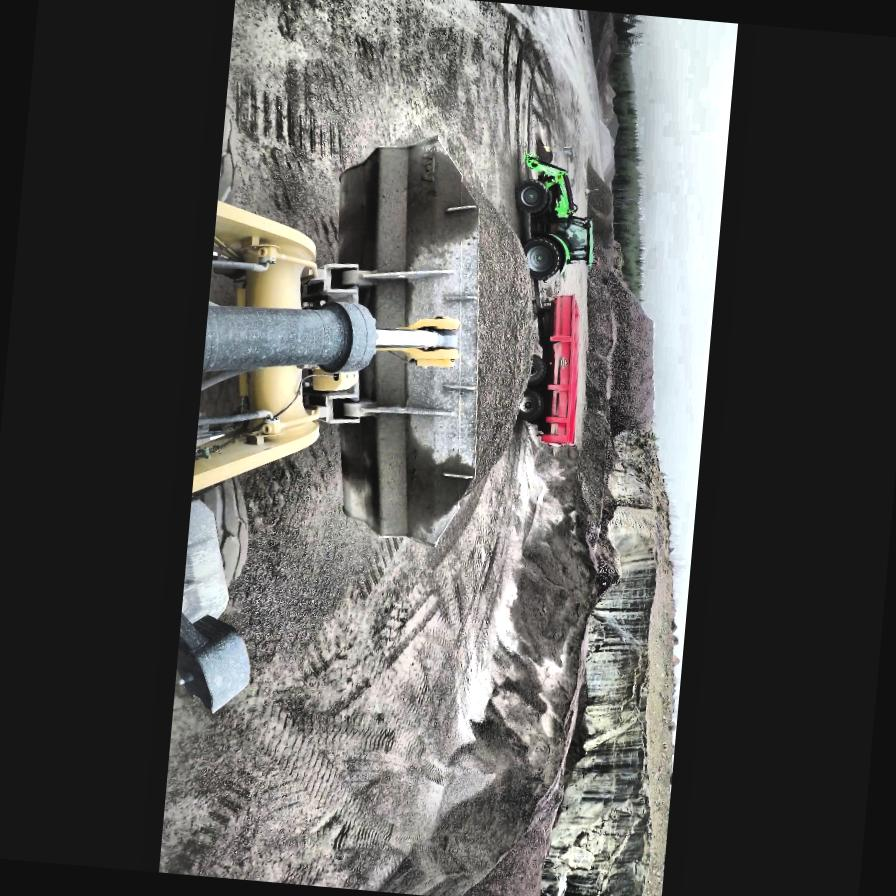anchor: (376, 312, 462, 370)
pile of gravel: (418, 437, 598, 896), (446, 180, 550, 486), (568, 248, 674, 530), (579, 160, 622, 256), (570, 10, 618, 66), (592, 22, 622, 108), (593, 120, 616, 181), (602, 109, 621, 145), (601, 155, 616, 189), (601, 42, 612, 66), (608, 32, 620, 52)
